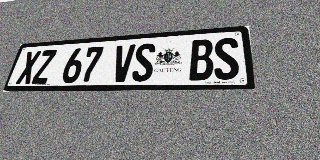6: (60, 48, 86, 83)
7: (78, 46, 104, 83)
B: (189, 39, 213, 81)
S: (214, 37, 240, 80), (131, 43, 156, 82)
V: (110, 44, 136, 82)
X: (15, 51, 41, 84)
Z: (31, 50, 57, 84)
